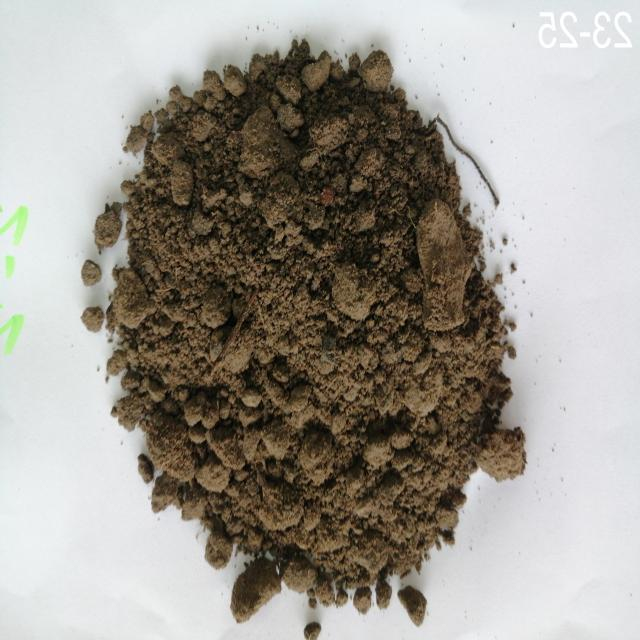soil: (172, 142, 438, 520)
